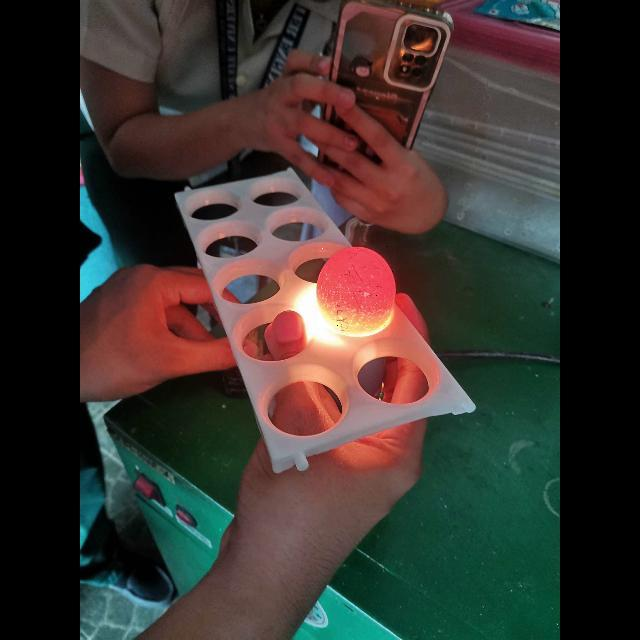Infertile: (318, 244, 396, 328)
